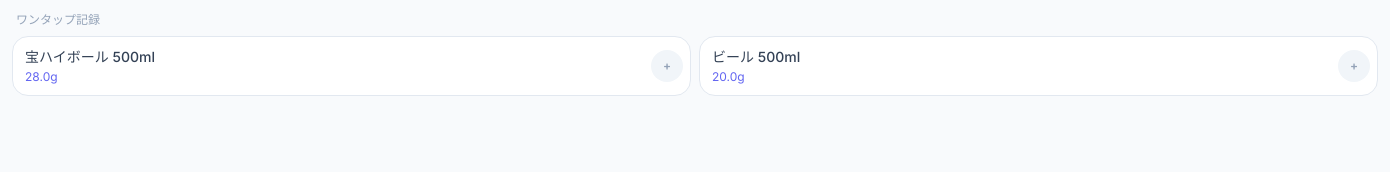
it: QuickAddChips › 本数を増やすと合計の純アルコール量が表示に反映される
Expected: the text "28.0g" is shown, [25,69,58,84]
What coordinates should you click on to do the following:
click the button named "宝ハイボールの本数を増やす"
I would click on:
 (667, 66)
Its box is [651,50,683,82].
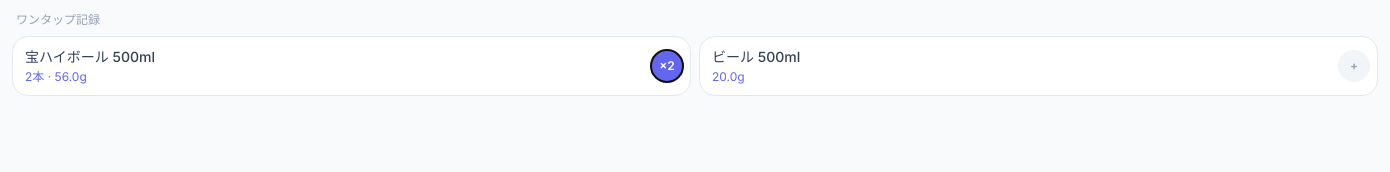
Now the text "2本 · 56.0g" is shown, box [25,69,87,84]
